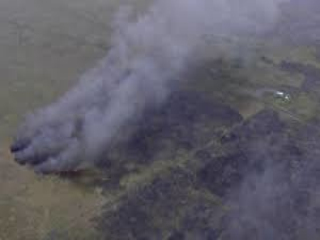smoke: (16, 29, 204, 177)
